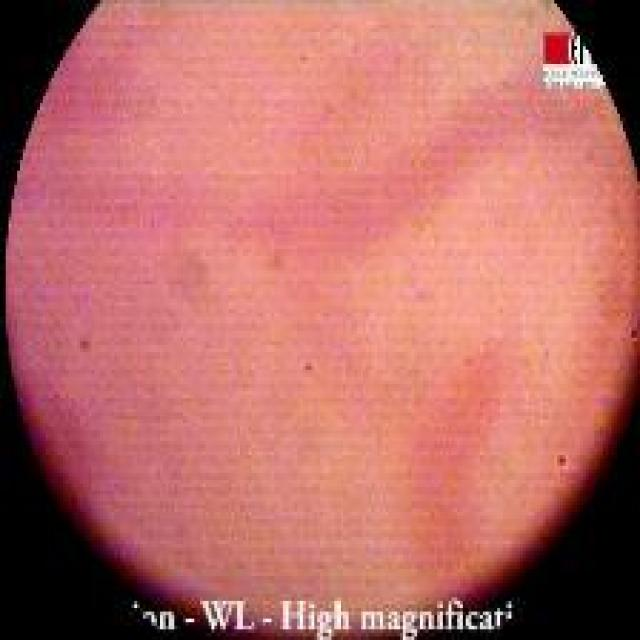blur: (15, 20, 628, 622)
color misalignment: (126, 587, 535, 637), (535, 29, 610, 96), (453, 346, 489, 385), (291, 353, 325, 383), (544, 440, 574, 471), (75, 320, 95, 355)
